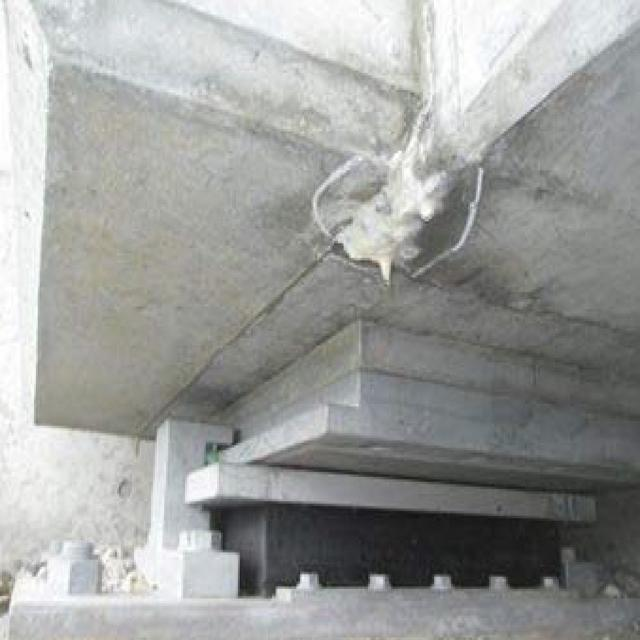freelime: (320, 139, 454, 287)
